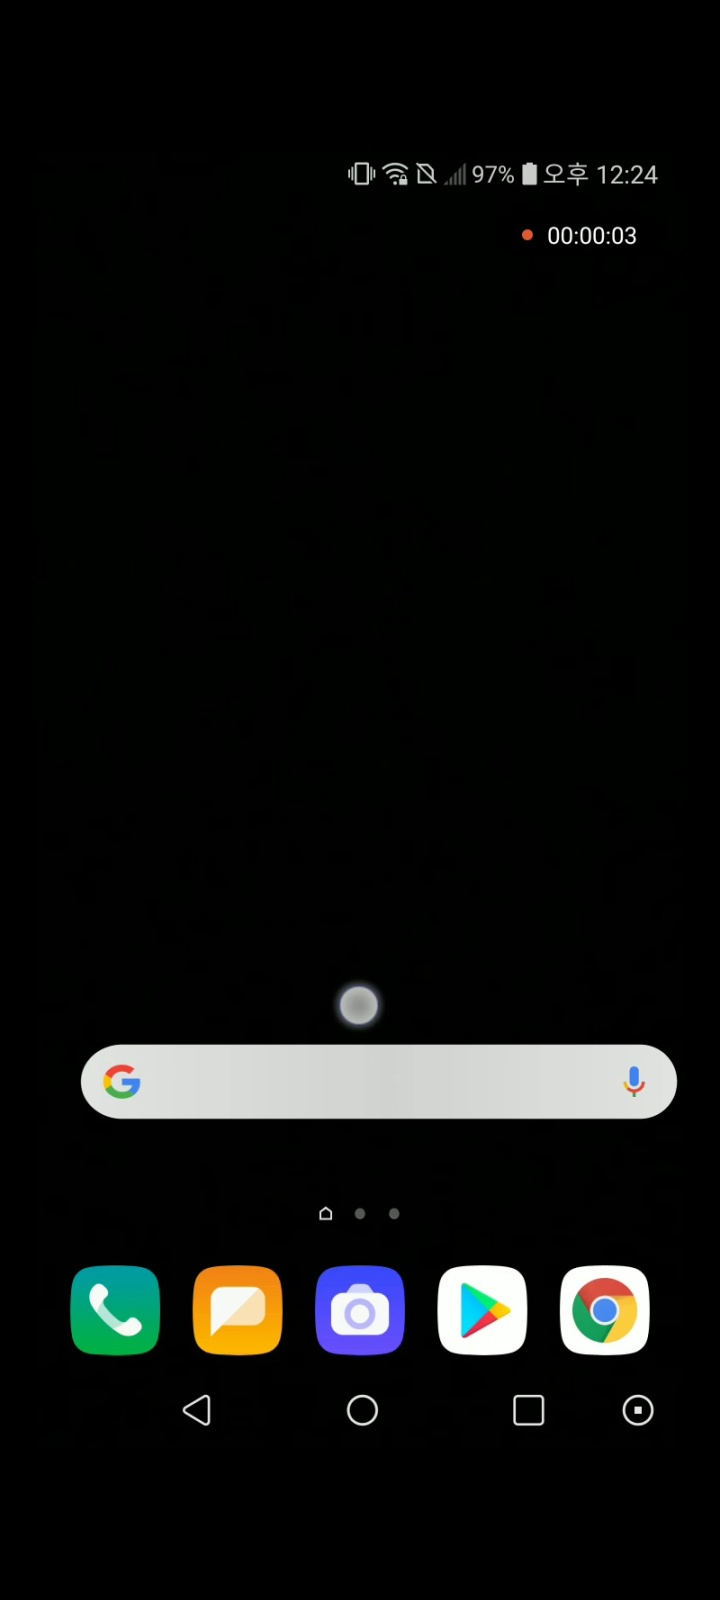Cursor: (339, 984, 384, 1029)
